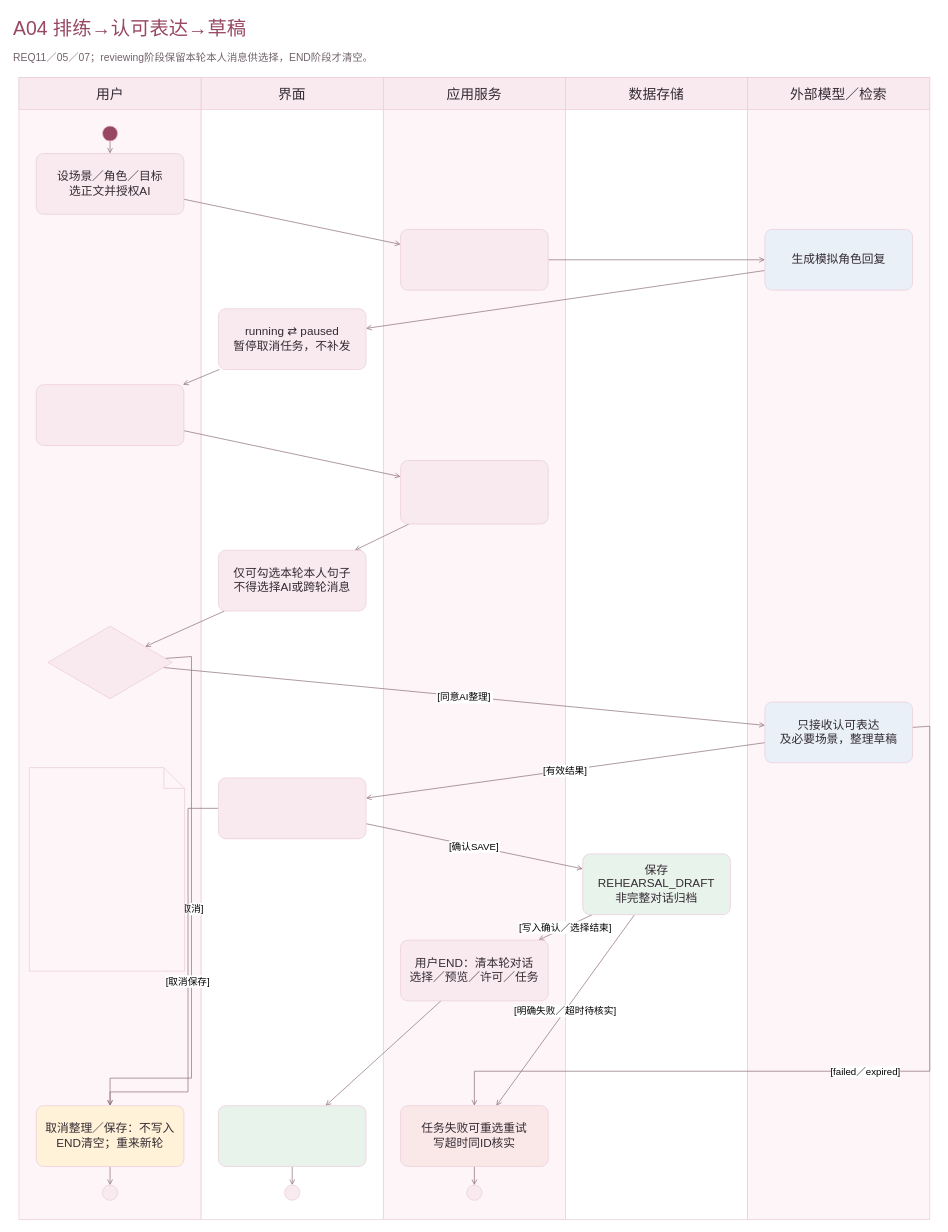
The diagram is 948 pixels wide and 1232 high, and some of its shapes have lost their labels. The shapes that lost their labels are listed below. From the top down, each one's centre as x and y in pixels, then its label:
(x=474, y=259): setup→ready→running 校验代次后创建任务
(x=110, y=414): 点击完成排练 FINISH_REHEARSAL
(x=474, y=492): 进入reviewing 旧许可任务失效 暂留本轮本人消息
(x=109, y=662): 确认整理范围 新AI_PROCESS许可
(x=292, y=808): 预览并修改草稿 另行确认SAVE
(x=107, y=869): 分支语义 暂停：可继续。 FINISH：停止角色回复，进入选择。 RESTART：清旧选择，新轮。 END：清临时内容。 取消SAVE：不写入。
(x=292, y=1135): 回显草稿保存结果 或结束未保存排练
